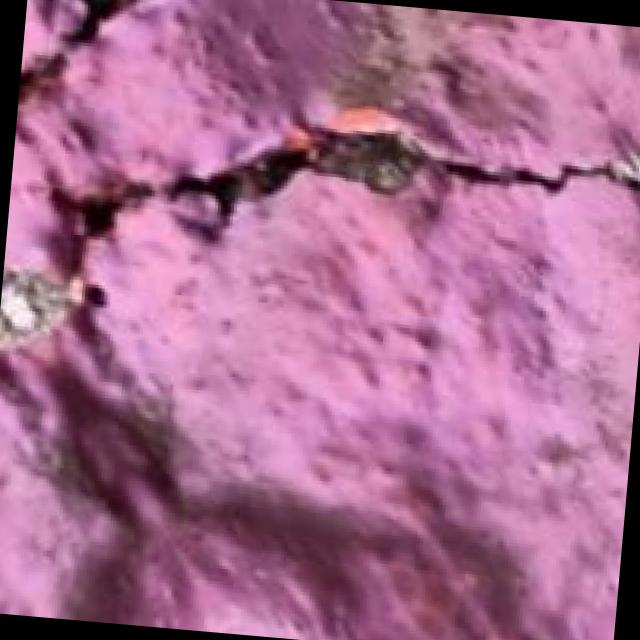crack: (2, 0, 621, 331)
